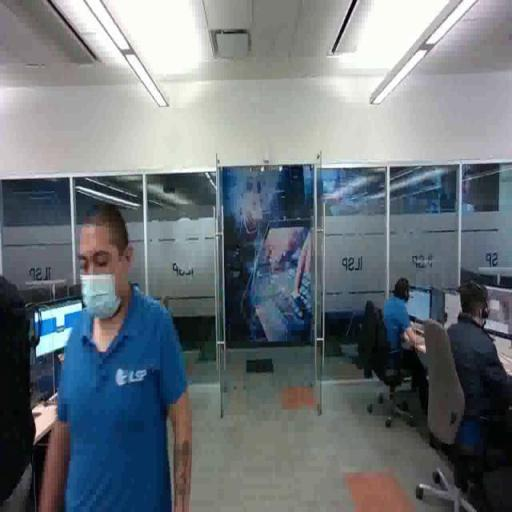person: (43, 202, 200, 512), (445, 277, 512, 496), (379, 276, 430, 411)
